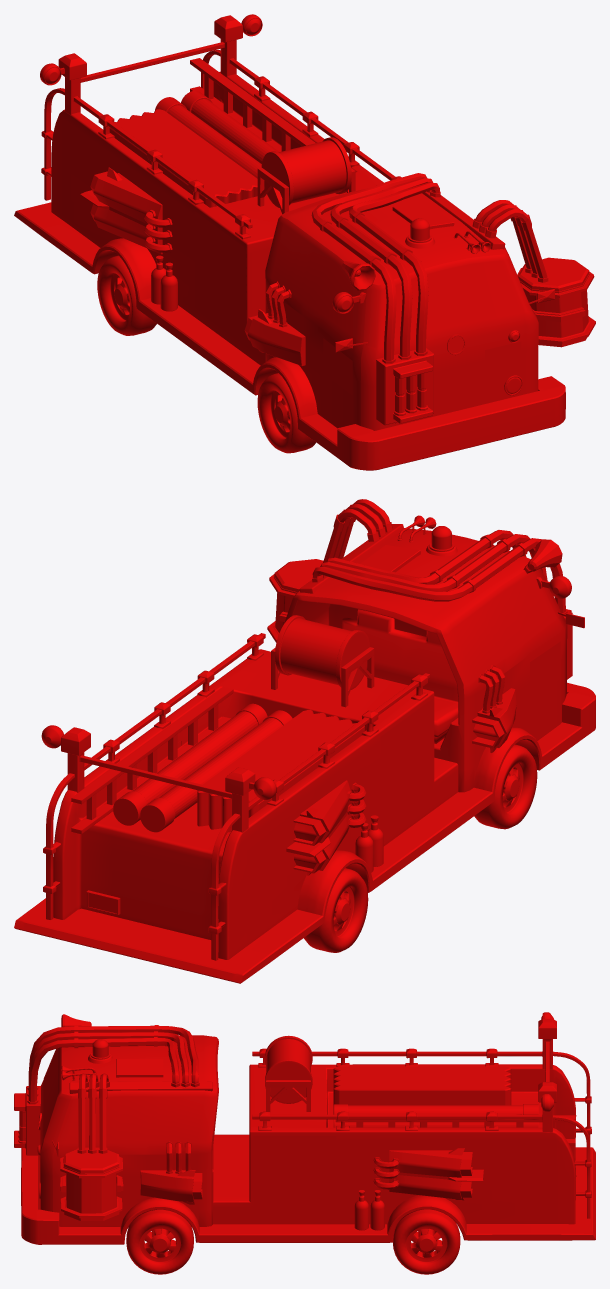
The model's file is Combined.fbx.
3 renders of one model, top to bottom at view 1: azimuth 30°, elevation 25°; view 2: azimuth 150°, elevation 25°; view 3: azimuth 270°, elevation 25°, orthographic. The views are drawn at different scales.
Visible parts, largest first — view 1: polySurface177; view 2: polySurface177; view 3: polySurface177.
Part boxes in pixels (box(x1,y1,x2,y2)): polySurface177: box(14, 14, 595, 470); polySurface177: box(14, 499, 595, 983); polySurface177: box(14, 1012, 595, 1274).
Bounding box in the file's own units: 531 × 420 × 1148.
